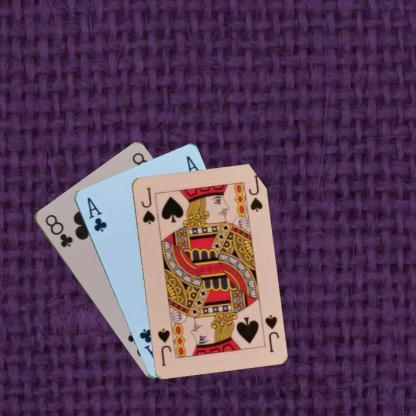8c: (42, 211, 74, 249)
Ac: (84, 194, 108, 233)
Js: (138, 184, 156, 226), (262, 312, 280, 354)
